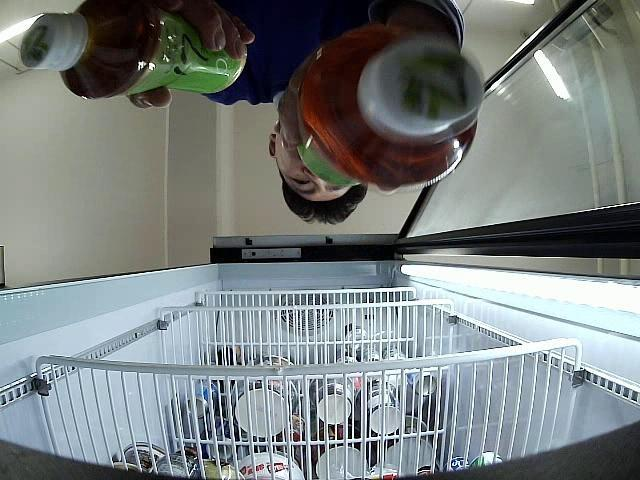19_17cha: (300, 27, 484, 192), (19, 0, 248, 99)
